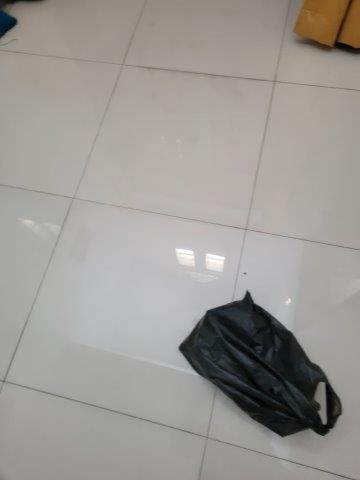plastik: (180, 292, 342, 438)
